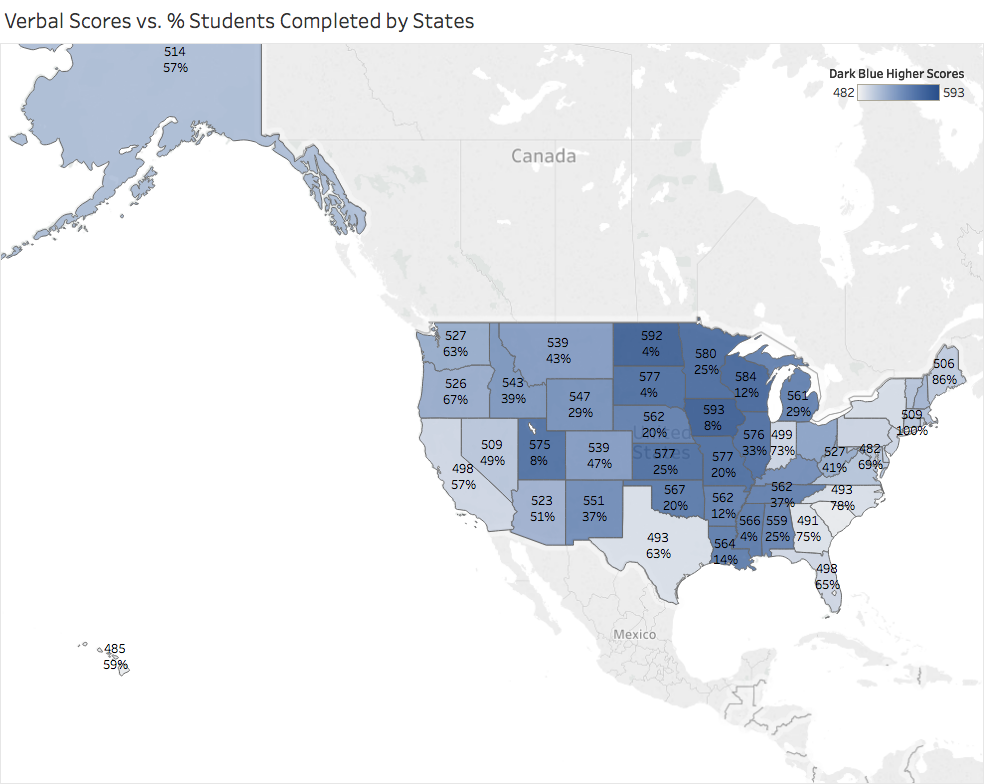

The dashboard page shown, as its layout file describes it:
{"tool":"tableau","page":{"name":"Dashboard 1","canvas":[1000,800],"ordinal":0},"visuals":[{"type":"worksheet","title":"Sheet 1","mark":"Automatic","box":[0,0,996,800]},{"type":"legend","title":"Sheet 1","param":"[federated.1cqjghu0yxf4fs17qwtxc09u2zoc].[sum:Math:qk]","box":[828,72,140,57]}]}

Visuals, with their boxes in screenshot pixels (x1, y1, x2, y2), scaled from the page's 1000x800 canvas onto the 984x784 screenshot:
"Sheet 1" worksheet: {"left": 0, "top": 0, "right": 980, "bottom": 783}
"Sheet 1" legend: {"left": 815, "top": 71, "right": 953, "bottom": 126}
